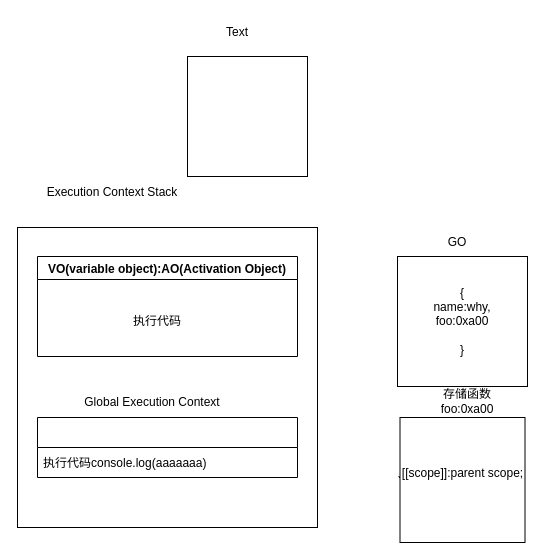
The diagram is 545 pixels wide and 560 high, and some of its shapes have lost their labels. Here are the shapes that lost their labels. From the top down, the box of each, then its label:
(186, 56, 308, 176): { m:10, n:20, }
(36, 416, 298, 478): VO(variable object):GO
